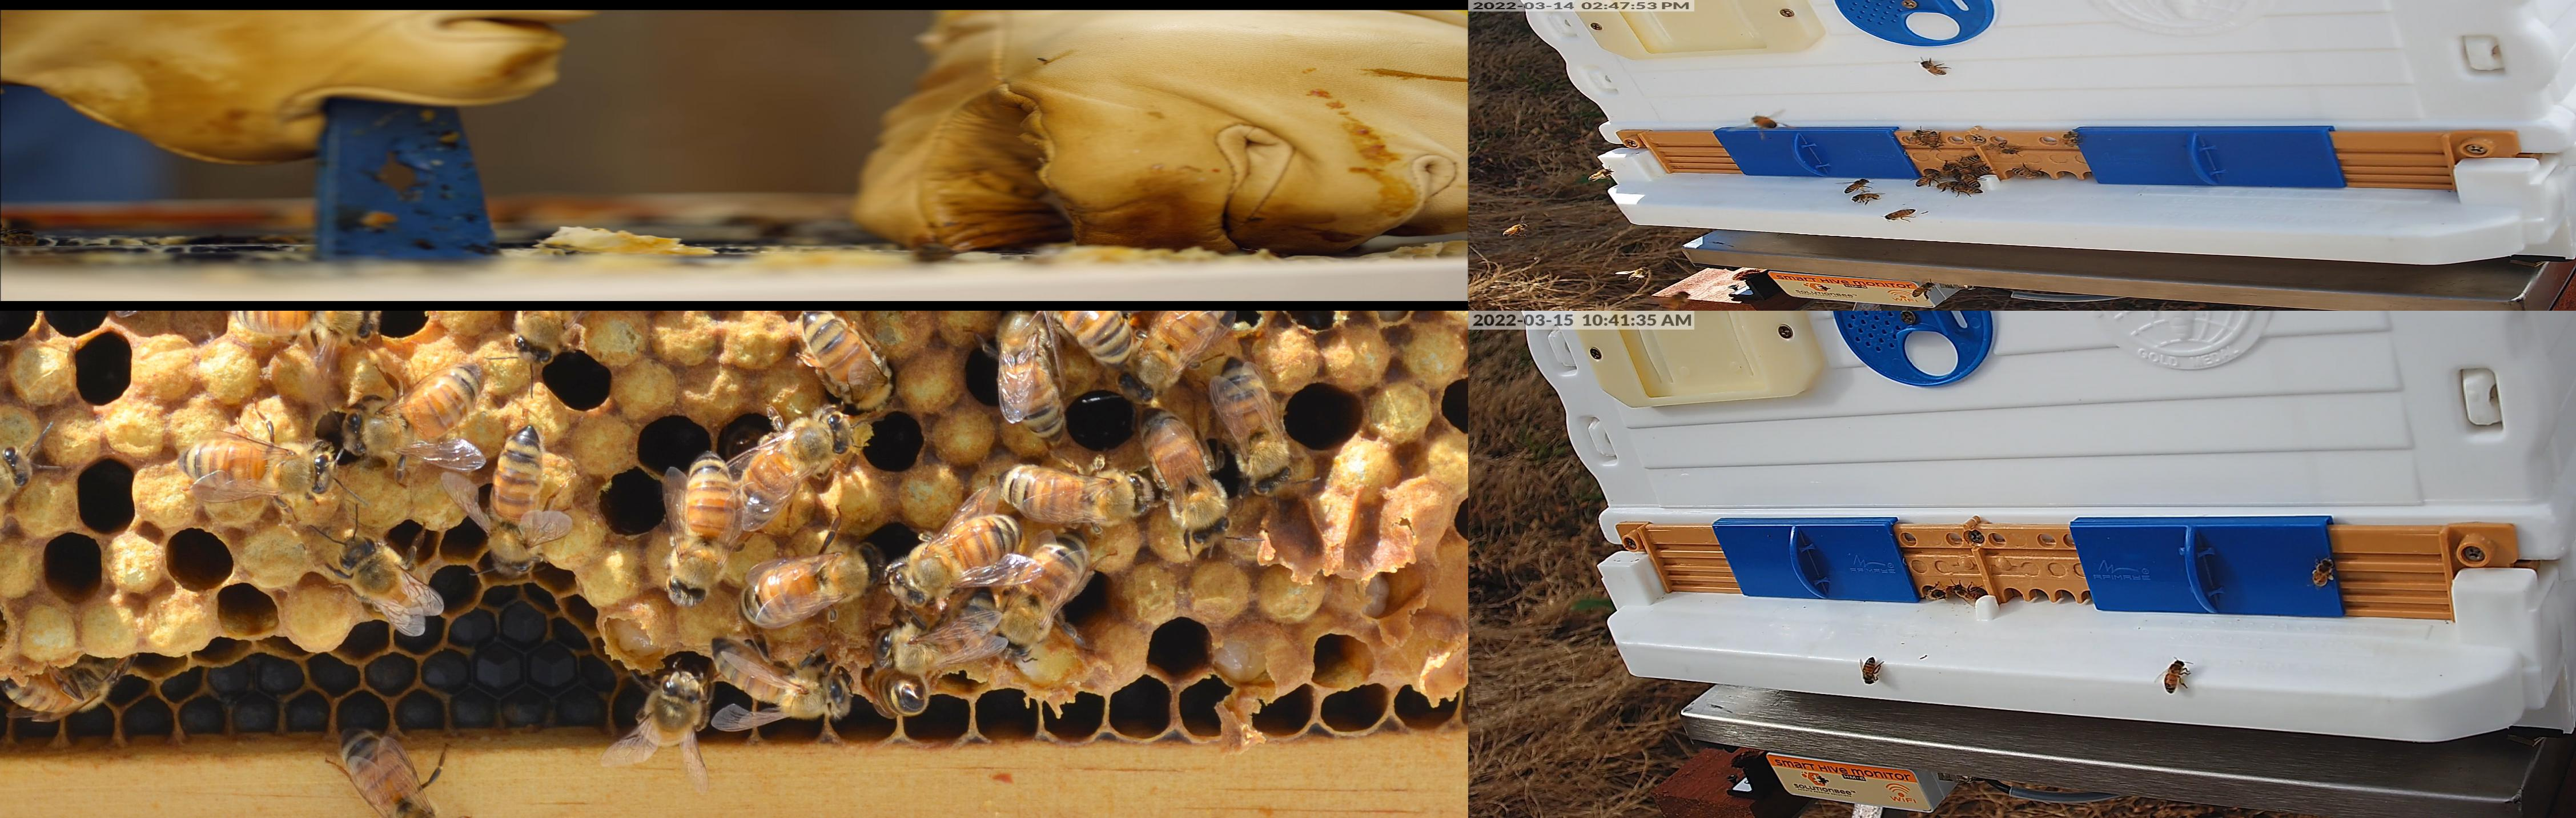bee: (343, 356, 485, 453), (1140, 402, 1229, 542), (892, 517, 1015, 608), (1000, 532, 1088, 657), (743, 414, 849, 511), (713, 637, 846, 715), (1120, 310, 1229, 402), (177, 437, 332, 501), (342, 728, 448, 818), (667, 455, 734, 598), (800, 310, 894, 409), (1004, 462, 1147, 526), (749, 545, 881, 614), (1219, 365, 1290, 491), (486, 422, 542, 568), (1000, 310, 1063, 440), (338, 537, 427, 624), (872, 614, 999, 664), (0, 662, 113, 713), (1015, 310, 1130, 360), (636, 672, 708, 746), (235, 310, 378, 345), (511, 310, 603, 356), (2164, 660, 2183, 693), (1661, 291, 1692, 310), (1950, 585, 1985, 600), (1884, 209, 1916, 220), (1920, 61, 1947, 74), (1863, 657, 1876, 683), (1985, 143, 2019, 153), (1628, 266, 1649, 281), (1924, 588, 1945, 603), (2012, 168, 2044, 177), (1587, 169, 1613, 181), (1914, 283, 1934, 297), (1957, 156, 1981, 168), (1917, 172, 1939, 186), (1911, 130, 1927, 146), (1927, 130, 1942, 148), (1753, 117, 1778, 126), (1962, 174, 1980, 187), (1950, 187, 1983, 194), (2065, 131, 2078, 146), (1953, 166, 1973, 176), (1851, 194, 1879, 200), (1939, 182, 1963, 189), (1943, 164, 1955, 177), (1973, 168, 1991, 176)
pollenbee: (2313, 558, 2334, 586), (1843, 179, 1870, 192), (1503, 223, 1528, 237)
